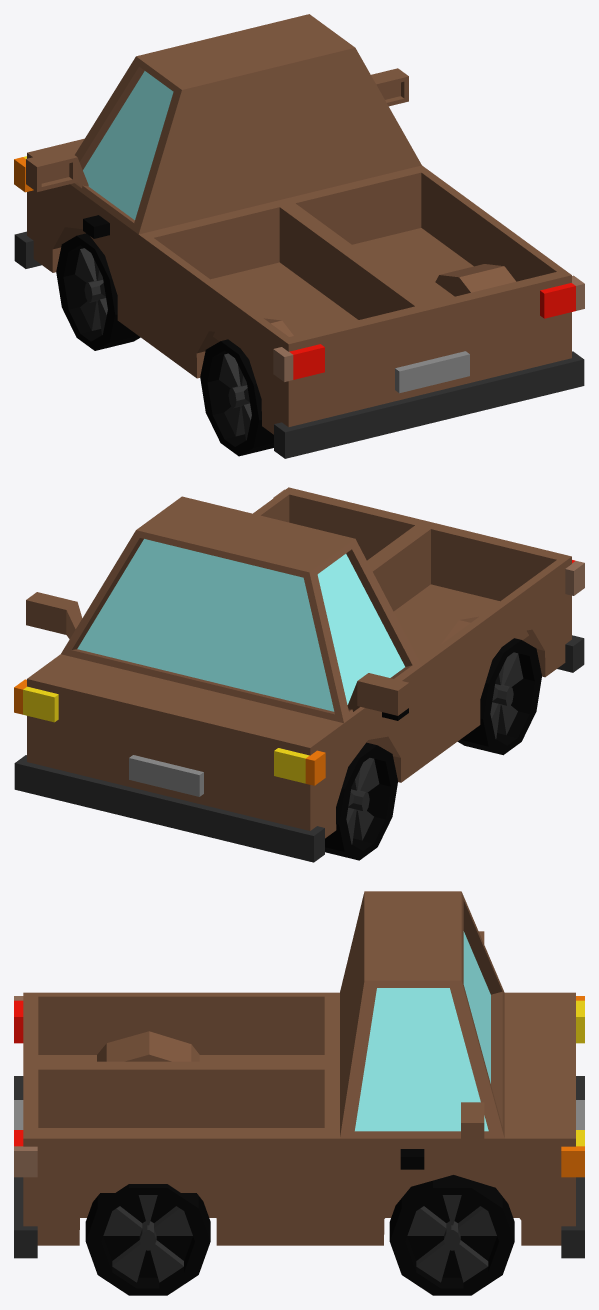
Rendered from ObsticleCar_3.fbx.
3 views of the same model, one above another, from view 1: azimuth 30°, elevation 25°; view 2: azimuth 150°, elevation 25°; view 3: azimuth 270°, elevation 25° (orthographic). The views are drawn at different scales.
Visible parts, largest first — view 1: Cube.003; view 2: Cube.003; view 3: Cube.003.
Part boxes in pixels (x1,y1,x2,y2): Cube.003: (14, 14, 584, 458); Cube.003: (14, 487, 584, 862); Cube.003: (14, 891, 584, 1295).
Size of the model in its own units: 328 by 229 by 413.
1 material, 1 textured.
